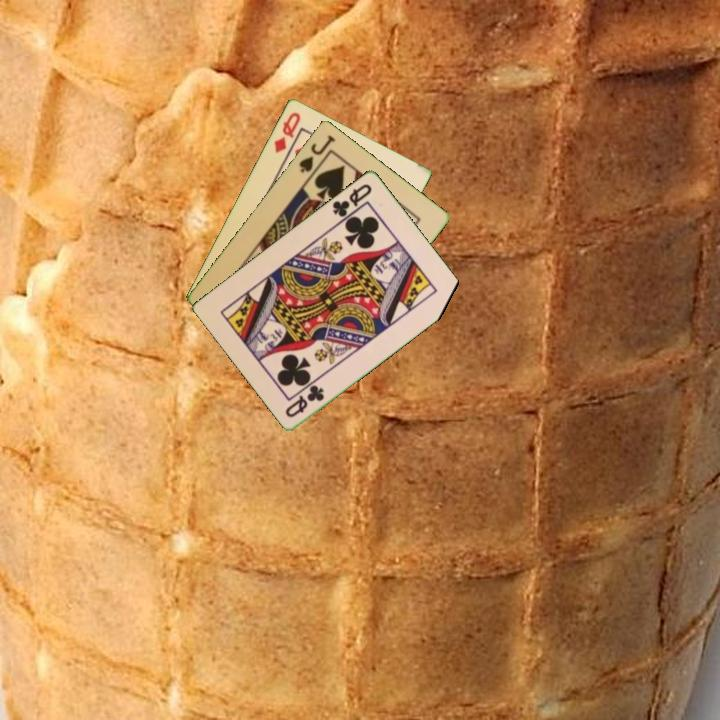Js: (295, 131, 338, 176)
Qc: (329, 180, 375, 220), (282, 381, 327, 420)
Qd: (270, 108, 303, 156)
